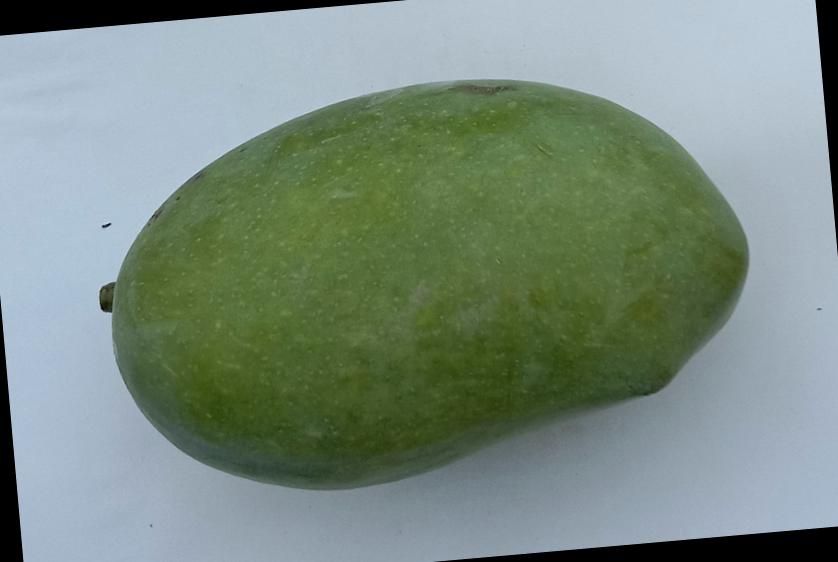Mango Unripe: (31, 17, 835, 534)
